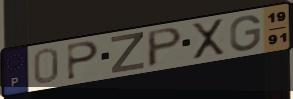0: (31, 46, 61, 86)
G: (228, 14, 263, 53)
P: (146, 25, 185, 70), (66, 40, 101, 82)
X: (190, 17, 228, 62)
Z: (109, 31, 146, 75)
